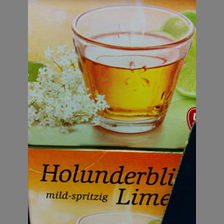tea: (28, 1, 196, 224)
